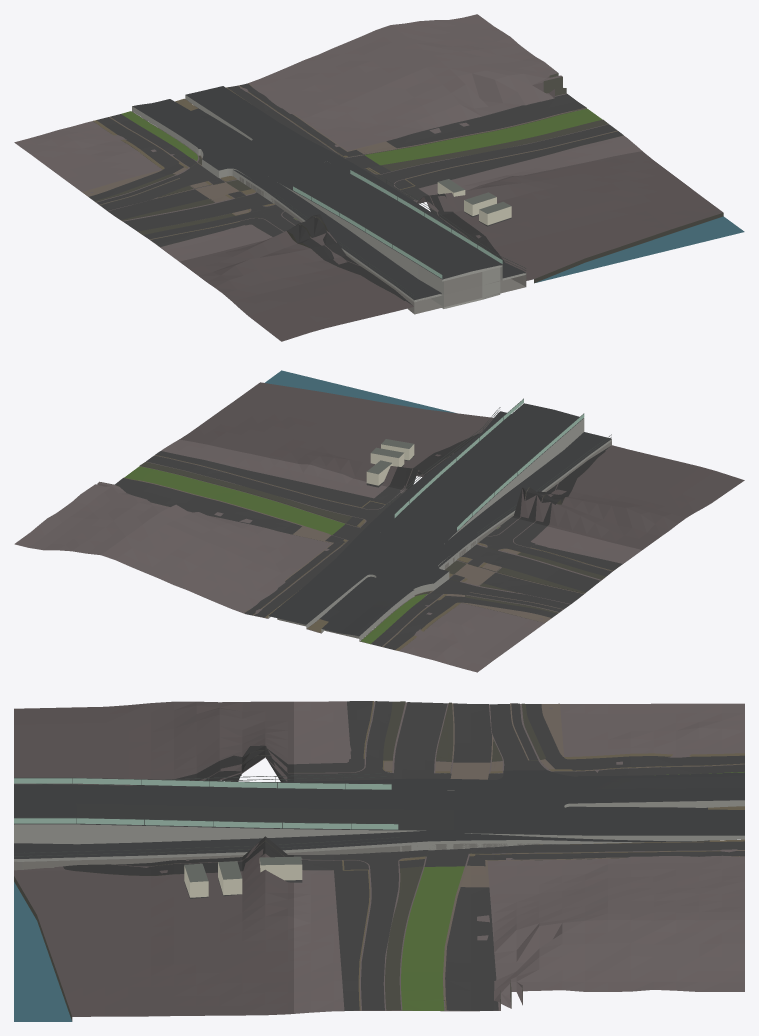
The picture shows the model from 3 angles, top to bottom: view 1: azimuth 30°, elevation 25°; view 2: azimuth 150°, elevation 25°; view 3: azimuth 270°, elevation 25°; orthographic projection. The views are drawn at different scales.
Visible parts, largest first — view 1: c_p02_m08, append:c_p02_m08, append:c_p02_m08_bridge_clipped_0, c_p02_m08_bridge_clipped_0; view 2: c_p02_m08, append:c_p02_m08, append:c_p02_m08_bridge_clipped_0, c_p02_m08_bridge_clipped_0; view 3: c_p02_m08, append:c_p02_m08, c_p02_m08_bridge_clipped_0, append:c_p02_m08_bridge_clipped_0.
Part boxes in pixels (x1,y1,x2,y2): c_p02_m08: [132, 86, 744, 341]; append:c_p02_m08: [14, 14, 641, 261]; append:c_p02_m08_bridge_clipped_0: [185, 95, 418, 222]; c_p02_m08_bridge_clipped_0: [320, 195, 527, 307]; c_p02_m08: [179, 370, 744, 640]; append:c_p02_m08: [14, 439, 641, 672]; append:c_p02_m08_bridge_clipped_0: [275, 490, 511, 625]; c_p02_m08_bridge_clipped_0: [401, 430, 613, 516]; c_p02_m08: [14, 701, 744, 1021]; append:c_p02_m08: [294, 701, 744, 1013]; c_p02_m08_bridge_clipped_0: [14, 757, 293, 871]; append:c_p02_m08_bridge_clipped_0: [294, 779, 721, 860].
Size of the model in its own units: 128 by 9.54 by 128.
